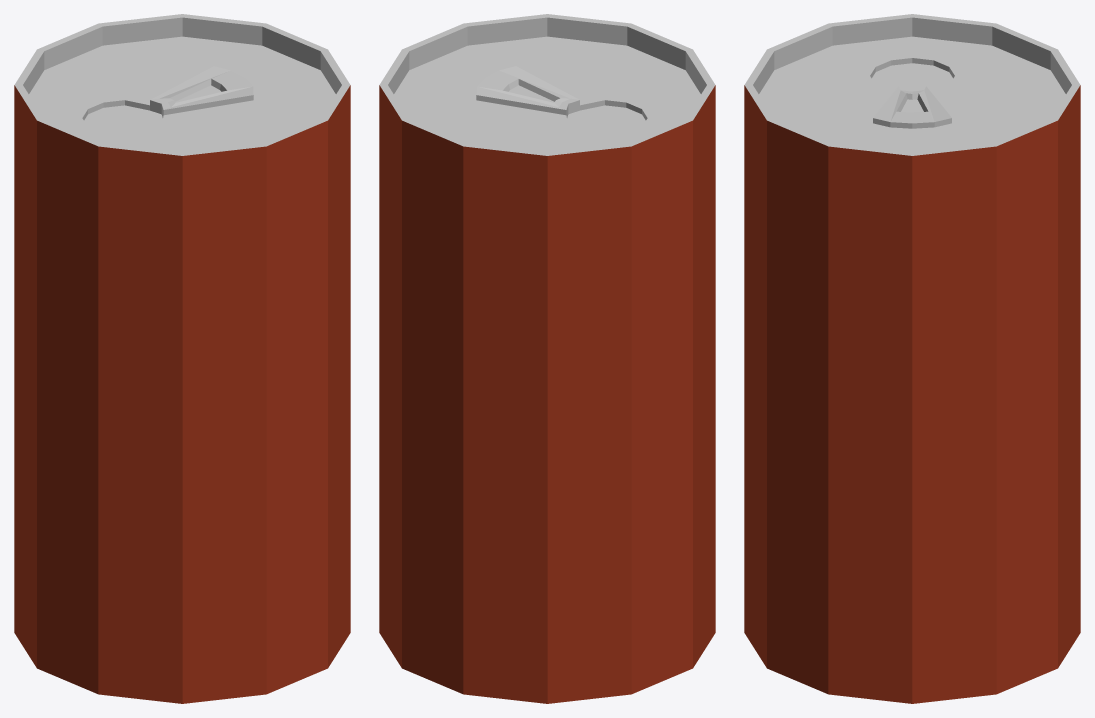
The model's file is can.gltf.
The picture shows the model from 3 angles, left to right: view 1: azimuth 30°, elevation 25°; view 2: azimuth 150°, elevation 25°; view 3: azimuth 270°, elevation 25°; orthographic projection.
Visible parts, largest first — view 1: Cube; view 2: Cube; view 3: Cube.
Part boxes in pixels (x1,y1,x2,y2): Cube: (14,14,350,703); Cube: (379,14,715,703); Cube: (744,14,1080,703).
Bounding box in the file's own units: 2 × 3.6 × 2.
1 material, 1 textured.
